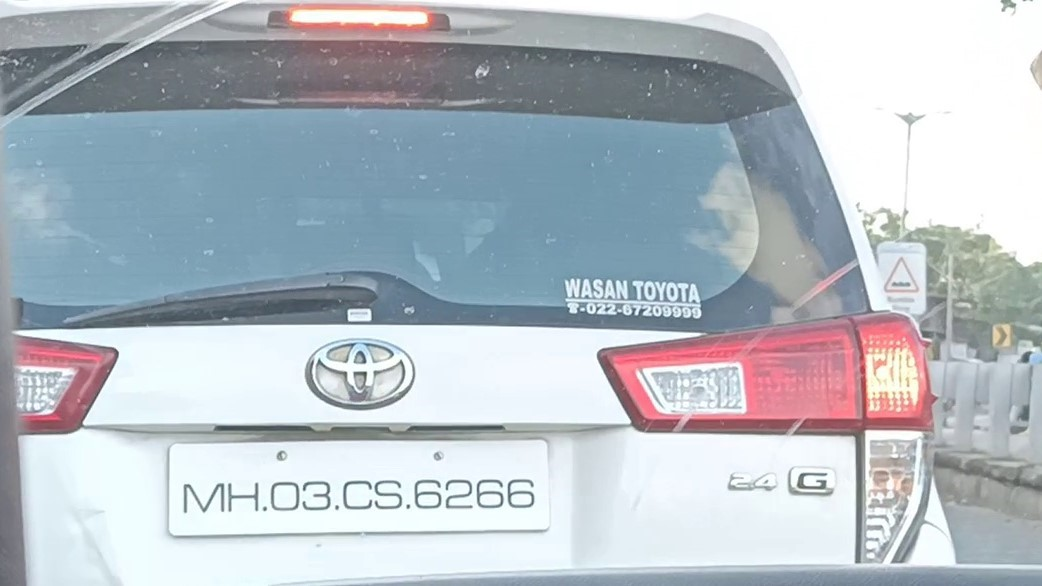MH03CS6266: (166, 437, 554, 538)
